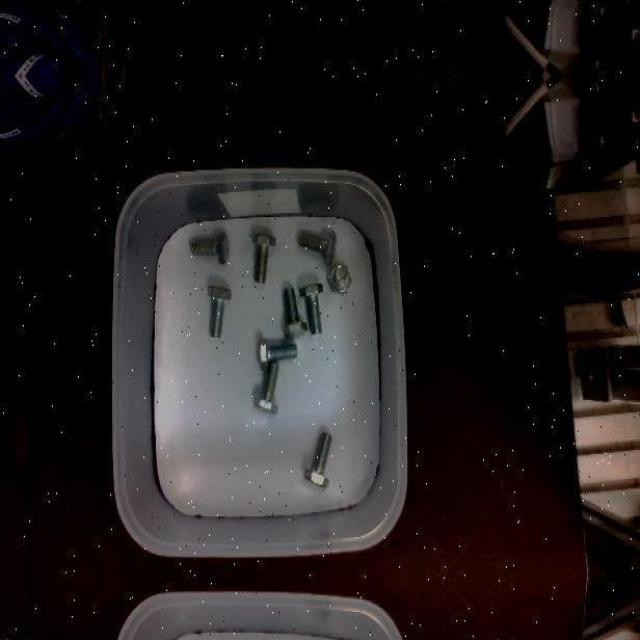screw: (304, 431, 332, 488), (253, 359, 280, 412), (258, 336, 298, 369), (298, 232, 338, 265), (190, 232, 230, 265), (252, 232, 278, 282), (208, 286, 233, 337), (284, 285, 308, 337), (299, 283, 323, 334), (328, 263, 354, 293)
